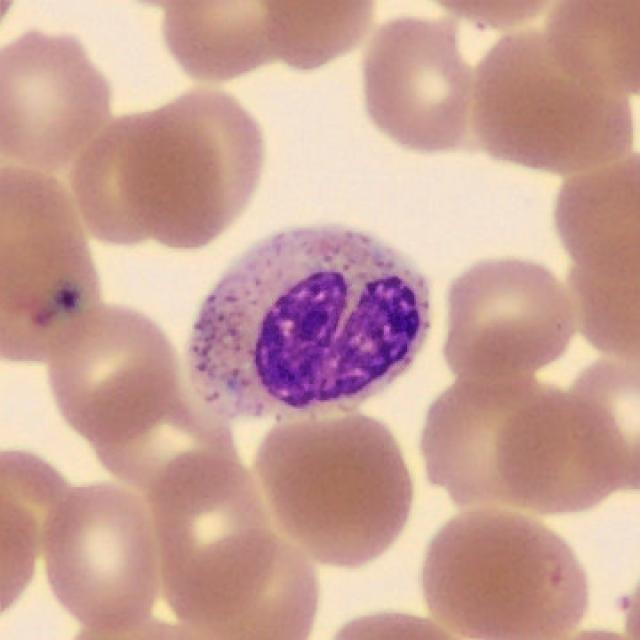Bastonete: (192, 226, 430, 420)
